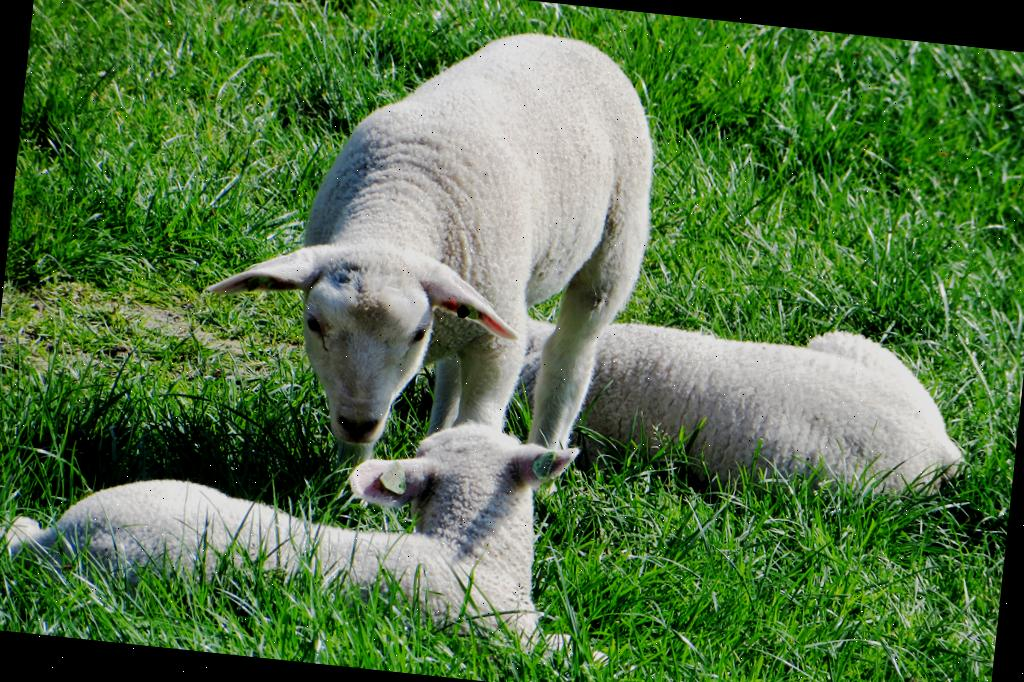Sheep: (184, 1, 668, 521), (0, 370, 662, 673), (503, 299, 982, 531)
